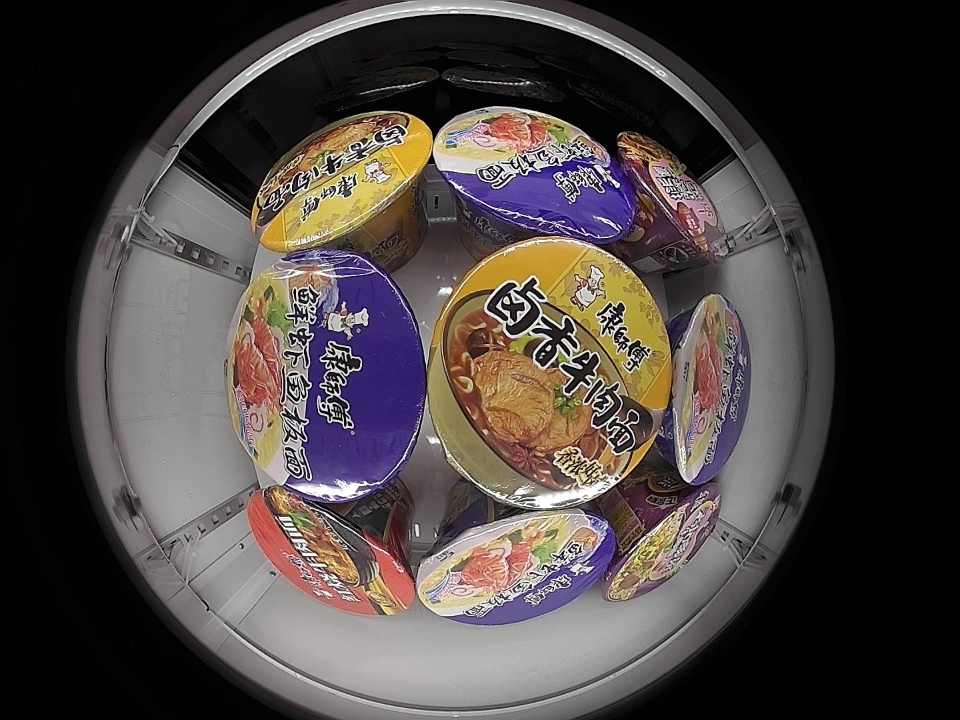hongshaoniurou: (248, 485, 416, 617)
laotansuancai: (614, 130, 727, 264), (604, 480, 723, 604)
luxiangniurou: (428, 236, 671, 506), (251, 111, 433, 254)
xianxiayuban: (225, 251, 428, 502), (433, 107, 635, 243), (415, 505, 618, 624), (661, 292, 750, 486)
